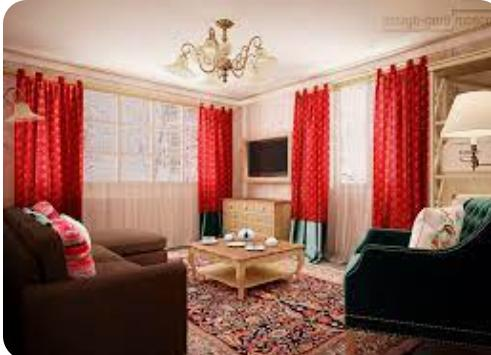carpet: (189, 275, 430, 355)
